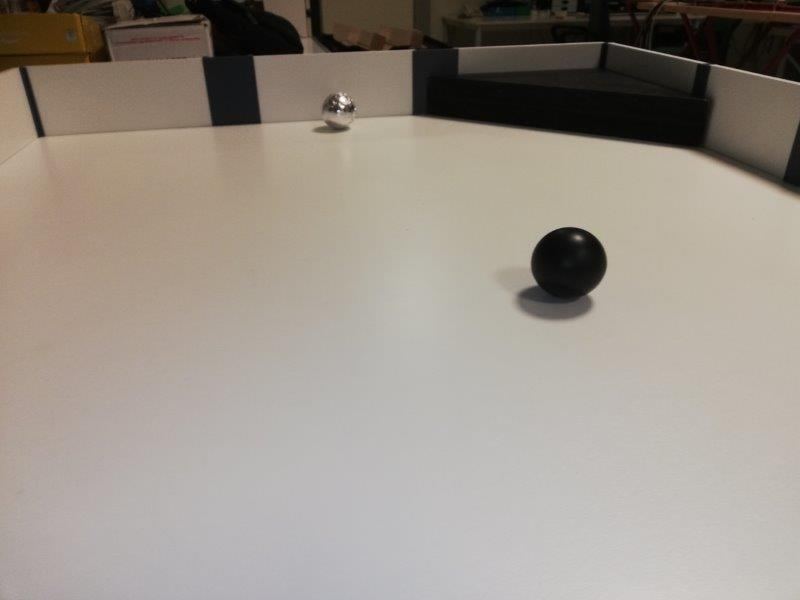bianca: (317, 89, 359, 132)
nera: (530, 226, 605, 298)
